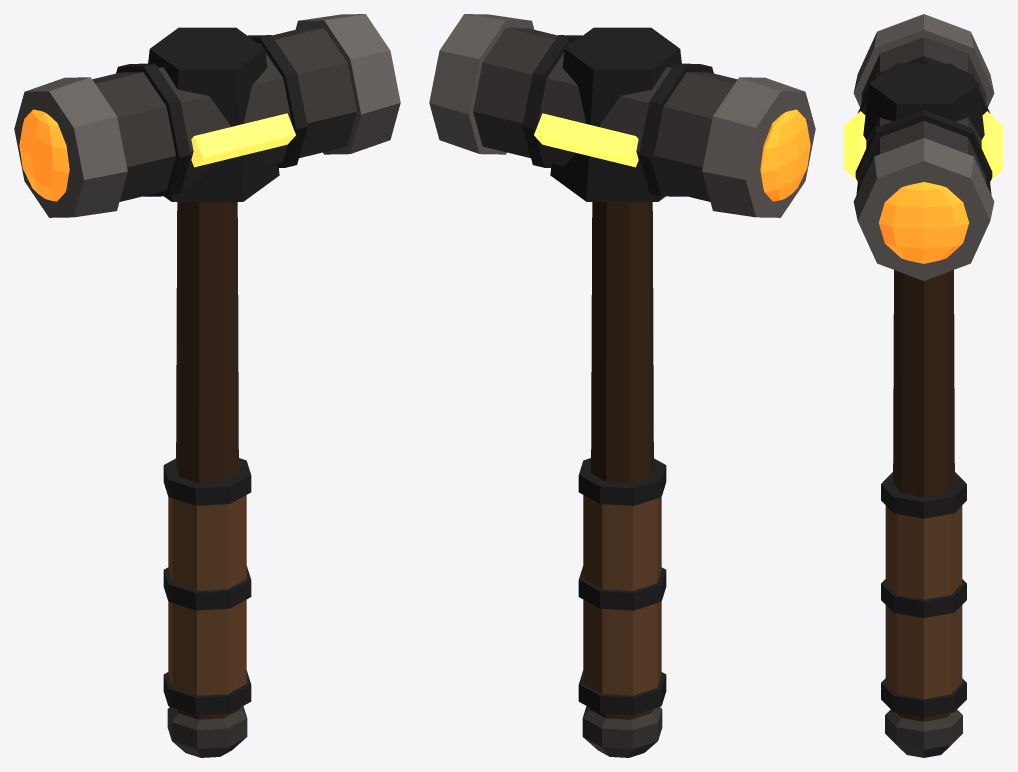
File: ember_hammer.glb
3 renders of one model, left to right at view 1: azimuth 30°, elevation 25°; view 2: azimuth 150°, elevation 25°; view 3: azimuth 270°, elevation 25°, orthographic. The views are drawn at different scales.
Visible parts, largest first — view 1: ember_hammer; view 2: ember_hammer; view 3: ember_hammer.
Part boxes in pixels (left/top/right/bottom): ember_hammer: left=14, top=14, right=400, bottom=757; ember_hammer: left=429, top=14, right=815, bottom=757; ember_hammer: left=844, top=14, right=1003, bottom=757.
Bounding box in the file's own units: 0.42 × 0.808 × 0.1746.
